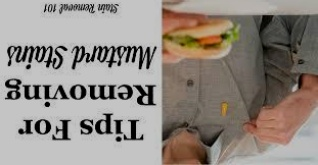mustard: (217, 100, 230, 119)
